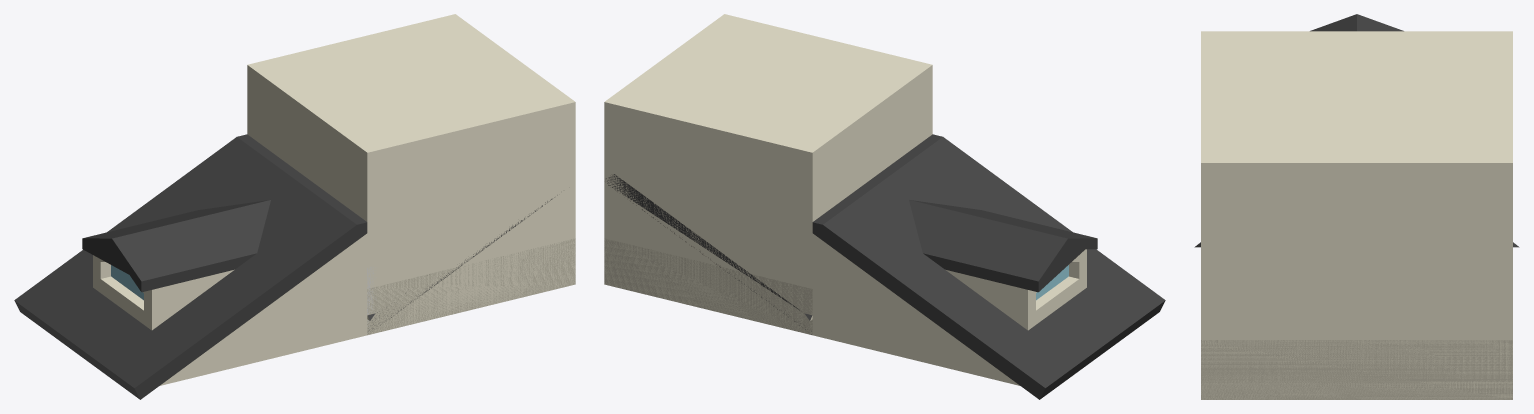
3 renders of one model, left to right at view 1: azimuth 30°, elevation 25°; view 2: azimuth 150°, elevation 25°; view 3: azimuth 270°, elevation 25°, orthographic. The views are drawn at different scales.
Parts seen in each view (by area): view 1: Shape:3, Shape:11, Shape:28, Shape:37, Shape:32, Shape:36, Shape:2, Shape:21, Shape:30, Shape:31, Shape:27, Shape:7 (+2 smaller); view 2: Shape:3, Shape:11, Shape:28, Shape:37, Shape:36, Shape:2, Shape:32, Shape:21, Shape:30, Shape:29, Shape:24, Shape:27 (+2 smaller); view 3: Shape:3, Shape:11, Shape:2, Shape:21, Shape:32.
Part boxes in pixels (x1,y1,x2,y2): Shape:3: (247,14,575,288); Shape:11: (247,113,575,334); Shape:28: (14,137,356,387); Shape:37: (160,233,367,385); Shape:32: (82,200,270,292); Shape:36: (14,134,367,399); Shape:2: (367,238,575,335); Shape:21: (372,184,575,333); Shape:30: (185,137,246,213); Shape:31: (152,269,234,330); Shape:27: (93,276,151,330); Shape:7: (248,113,367,221); Shape:3: (604,14,932,288); Shape:11: (604,148,837,334); Shape:28: (823,137,1165,387); Shape:37: (812,233,1019,385); Shape:36: (812,134,1165,399); Shape:2: (604,238,812,335); Shape:32: (909,200,1097,291); Shape:21: (604,183,810,334); Shape:30: (823,217,1038,292); Shape:29: (945,269,1027,330); Shape:24: (606,174,812,334); Shape:27: (1028,249,1086,330); Shape:3: (1201,31,1512,339); Shape:11: (1201,223,1512,399); Shape:2: (1201,340,1512,399); Shape:21: (1201,254,1512,399); Shape:32: (1310,14,1403,31).
Size of what is drawn, in the model's own units: 2.12 by 0.8799 by 1.04.
